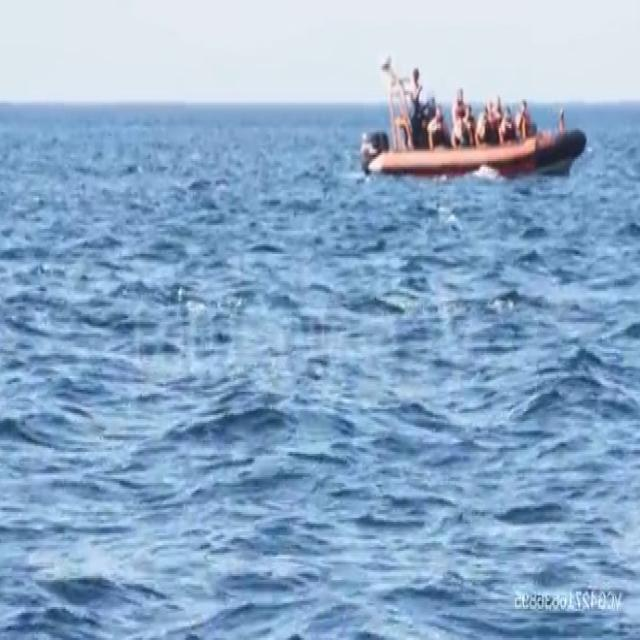houseboat: (361, 54, 592, 182)
